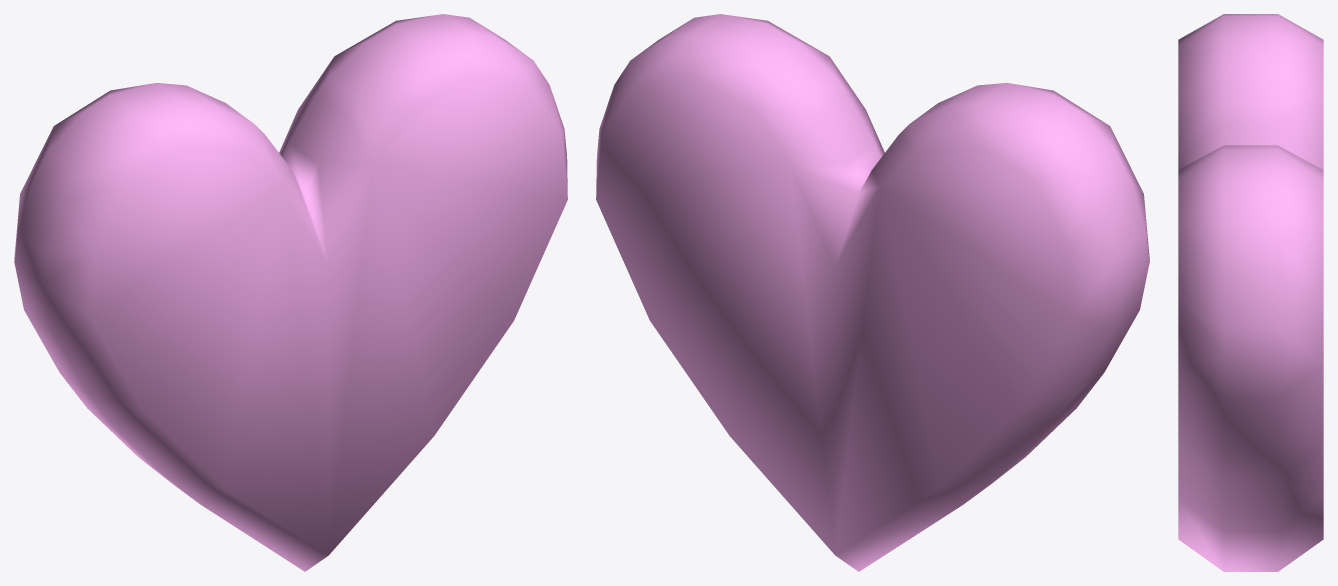
File: heart.fbx
The picture shows the model from 3 angles, left to right: view 1: azimuth 30°, elevation 25°; view 2: azimuth 150°, elevation 25°; view 3: azimuth 270°, elevation 25°; orthographic projection. The views are drawn at different scales.
Parts seen in each view (by area): view 1: Mesh; view 2: Mesh; view 3: Mesh.
Boxes of the visible parts, box(x1,y1,x2,y2) form: Mesh: box(14, 14, 567, 571); Mesh: box(596, 14, 1149, 571); Mesh: box(1178, 14, 1323, 571).
Bounding box in the file's own units: 1 × 0.9102 × 0.2503.
